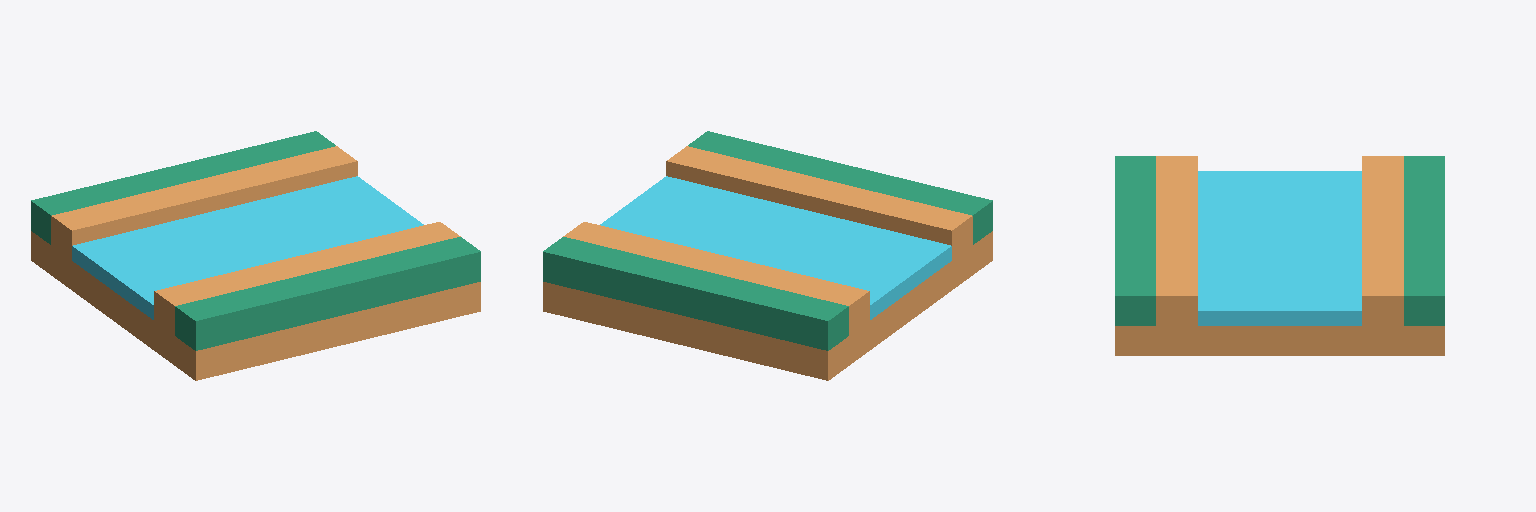
File: RiverStraightUD.obj
The picture shows the model from 3 angles: view 1: azimuth 30°, elevation 25°; view 2: azimuth 150°, elevation 25°; view 3: azimuth 270°, elevation 25°; orthographic projection.
Visible parts, largest first — view 1: RiverStraightUD; view 2: RiverStraightUD; view 3: RiverStraightUD.
Part boxes in pixels (x1,y1,x2,y2): RiverStraightUD: (31, 131, 480, 380); RiverStraightUD: (543, 131, 992, 380); RiverStraightUD: (1115, 156, 1444, 355).
Size of the model in its own units: 1 by 0.2 by 1.